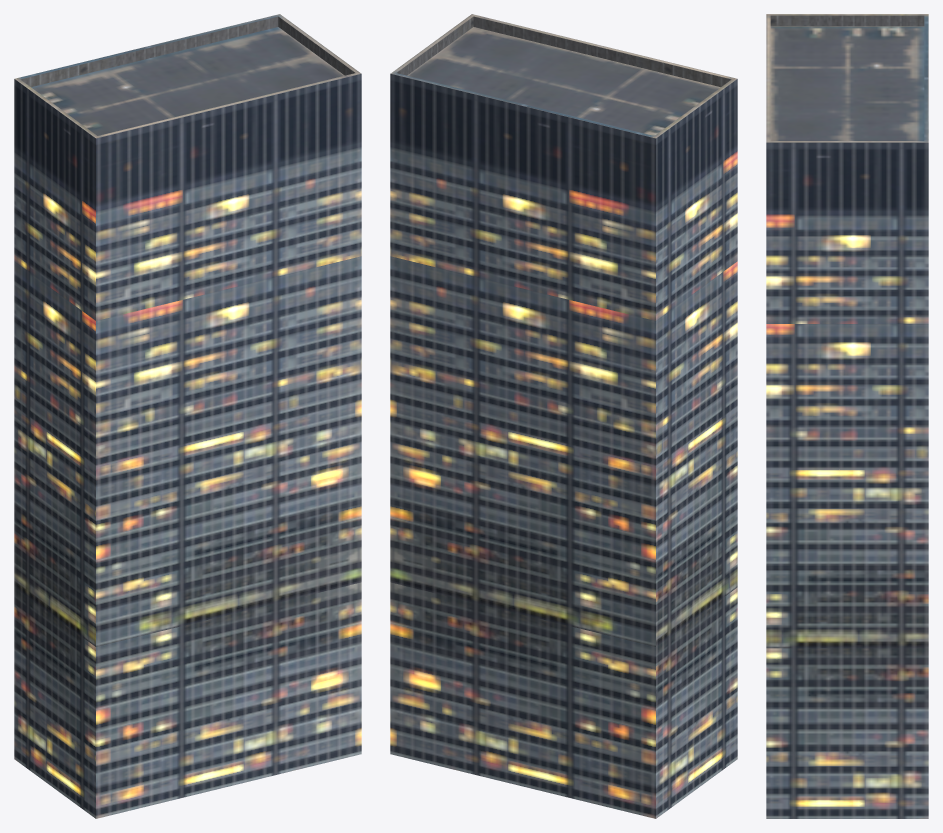
Rendered from Building_Blue_Bg.fbx.
3 views of the same model, side by side, from view 1: azimuth 30°, elevation 25°; view 2: azimuth 150°, elevation 25°; view 3: azimuth 270°, elevation 25° (orthographic).
Parts seen in each view (by area): view 1: Building_Blue_Bg; view 2: Building_Blue_Bg; view 3: Building_Blue_Bg.
Boxes of the visible parts, x1,y1,x2,y2 form: Building_Blue_Bg: (14, 14, 361, 818); Building_Blue_Bg: (390, 14, 737, 818); Building_Blue_Bg: (766, 14, 928, 818).
Bounding box in the file's own units: 289 × 709 × 154.
Materials: 1 (1 with a texture image).
